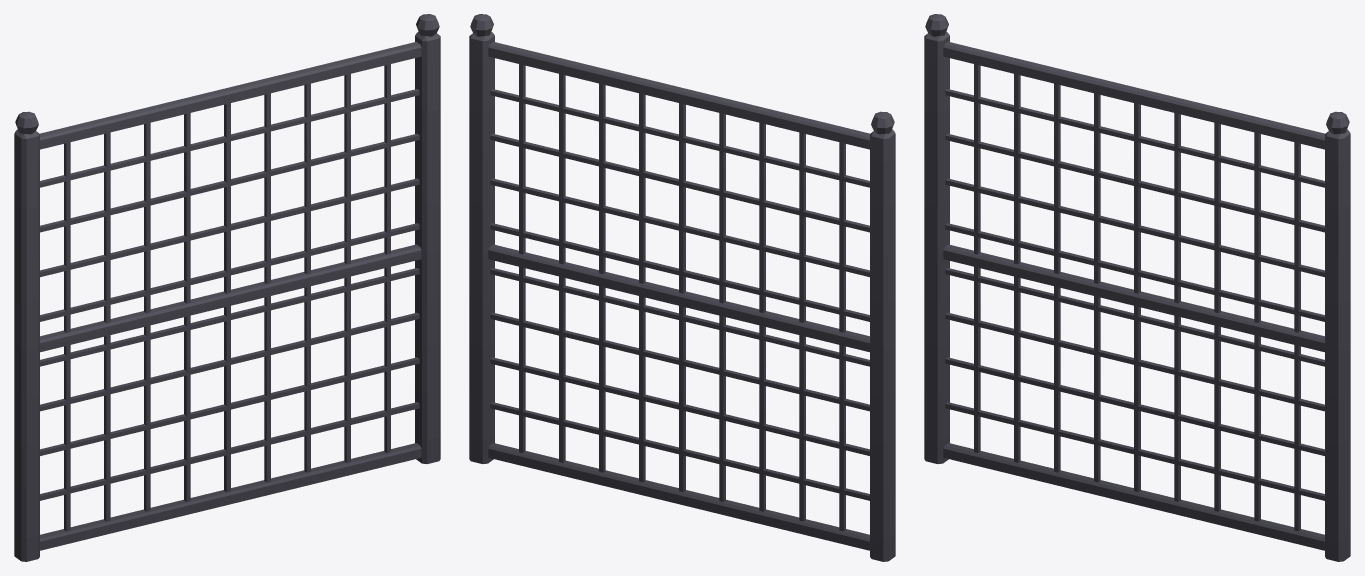
File: tennis_fence_panel.glb
3 renders of one model, left to right at view 1: azimuth 30°, elevation 25°; view 2: azimuth 150°, elevation 25°; view 3: azimuth 330°, elevation 25°, orthographic.
Visible parts, largest first — view 1: tennis_fence_panel; view 2: tennis_fence_panel; view 3: tennis_fence_panel.
Part boxes in pixels (x1,y1,x2,y2): tennis_fence_panel: [14, 14, 440, 561]; tennis_fence_panel: [469, 14, 895, 561]; tennis_fence_panel: [924, 14, 1350, 561].
Size of the model in its own units: 3.16 by 3.18 by 0.16.
1 material, 1 textured.
